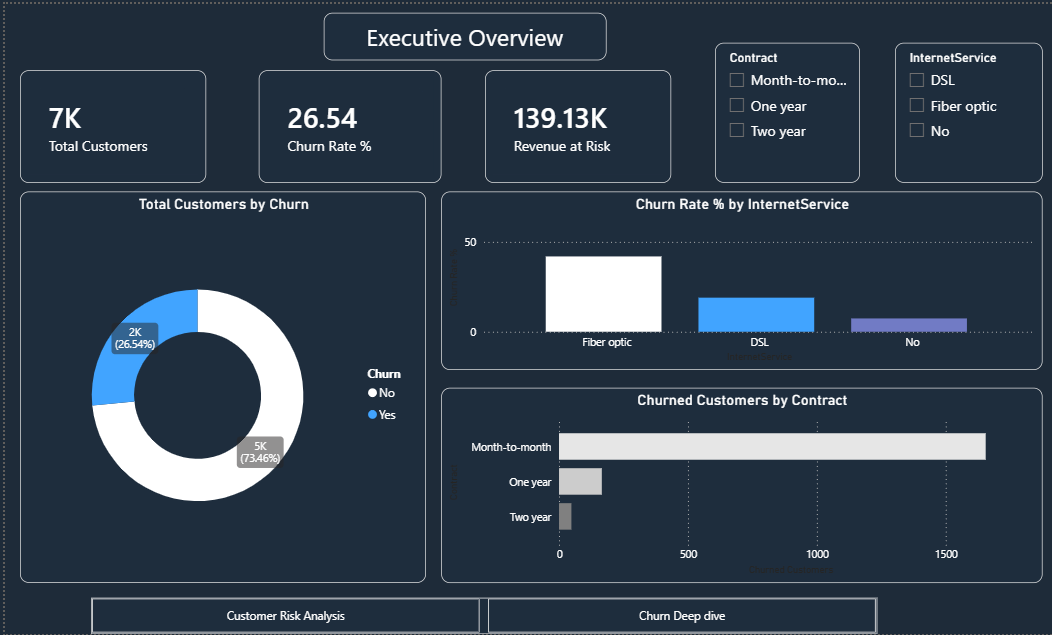

This screenshot's page, from the dashboard's own definition file:
{"tool":"powerbi","page":{"name":"Executive Overview","canvas":[1280,720],"ordinal":0},"visuals":[{"type":"cardVisual","fields":{"Data":["WA_Fn-UseC_-Telco-Customer-Churn.Total Customers"]},"box":[17.1,75.7,212.9,128.6],"z":0},{"type":"cardVisual","fields":{"Data":["WA_Fn-UseC_-Telco-Customer-Churn.Churn Rate %"]},"box":[290,75.7,208.6,128.6],"z":1000},{"type":"cardVisual","fields":{"Data":["WA_Fn-UseC_-Telco-Customer-Churn.Revenue at Risk"]},"box":[548.6,75.7,212.9,128.6],"z":2000},{"type":"donutChart","fields":{"Category":["WA_Fn-UseC_-Telco-Customer-Churn.Churn"],"Y":["WA_Fn-UseC_-Telco-Customer-Churn.Total Customers"]},"box":[17.1,214.3,464.3,447.1],"z":3000},{"type":"barChart","fields":{"Y":["WA_Fn-UseC_-Telco-Customer-Churn.Churned Customers"],"Category":["WA_Fn-UseC_-Telco-Customer-Churn.Contract"]},"box":[498.6,438.6,687.1,222.9],"z":4000},{"type":"clusteredColumnChart","fields":{"Category":["WA_Fn-UseC_-Telco-Customer-Churn.InternetService"],"Y":["WA_Fn-UseC_-Telco-Customer-Churn.Churn Rate %"]},"box":[498.6,214.3,687.1,204.3],"z":5000},{"type":"slicer","fields":{"Values":["WA_Fn-UseC_-Telco-Customer-Churn.Contract"]},"box":[811.4,44.3,165.7,160],"z":6000},{"type":"slicer","fields":{"Values":["WA_Fn-UseC_-Telco-Customer-Churn.InternetService"]},"box":[1017.1,44.3,168.6,160],"z":6001},{"type":"pageNavigator","box":[98.6,678.6,898.6,41.4],"z":6002},{"type":"textbox","box":[364.3,10,322.9,54.3],"z":6003}]}

Visuals, with their boxes on the page's 1280x720 design canvas (x1, y1, x2, y2). These are canvas units, not pixel positions in the 1052x635 screenshot, which may show the page scaled, cropped or inside an application window:
cardVisual - WA_Fn-UseC_-Telco-Customer-Churn.Total Customers: box(17, 76, 230, 204)
cardVisual - WA_Fn-UseC_-Telco-Customer-Churn.Churn Rate %: box(290, 76, 499, 204)
cardVisual - WA_Fn-UseC_-Telco-Customer-Churn.Revenue at Risk: box(549, 76, 762, 204)
donutChart - WA_Fn-UseC_-Telco-Customer-Churn.Churn x WA_Fn-UseC_-Telco-Customer-Churn.Total Customers: box(17, 214, 481, 661)
barChart - WA_Fn-UseC_-Telco-Customer-Churn.Churned Customers x WA_Fn-UseC_-Telco-Customer-Churn.Contract: box(499, 439, 1186, 662)
clusteredColumnChart - WA_Fn-UseC_-Telco-Customer-Churn.InternetService x WA_Fn-UseC_-Telco-Customer-Churn.Churn Rate %: box(499, 214, 1186, 419)
slicer - WA_Fn-UseC_-Telco-Customer-Churn.Contract: box(811, 44, 977, 204)
slicer - WA_Fn-UseC_-Telco-Customer-Churn.InternetService: box(1017, 44, 1186, 204)
pageNavigator: box(99, 679, 997, 720)
textbox: box(364, 10, 687, 64)
